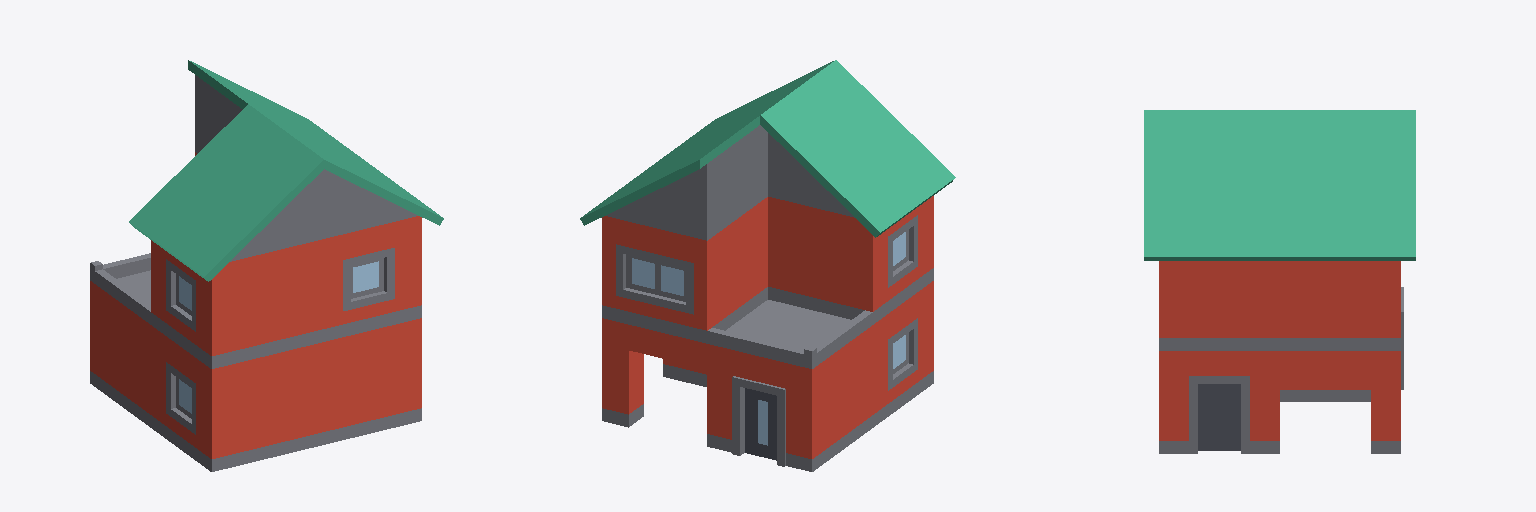
Rendered from city_house_k.obj.
3 renders of one model, left to right at view 1: azimuth 30°, elevation 25°; view 2: azimuth 150°, elevation 25°; view 3: azimuth 270°, elevation 25°, orthographic.
Visible parts, largest first — view 1: mergedBlocks; view 2: mergedBlocks; view 3: mergedBlocks.
Part boxes in pixels (x1,y1,x2,y2): mergedBlocks: (90, 60, 443, 471); mergedBlocks: (580, 60, 955, 471); mergedBlocks: (1144, 110, 1415, 453).
Size of the model in its own units: 0.5862 by 0.6825 by 0.576.